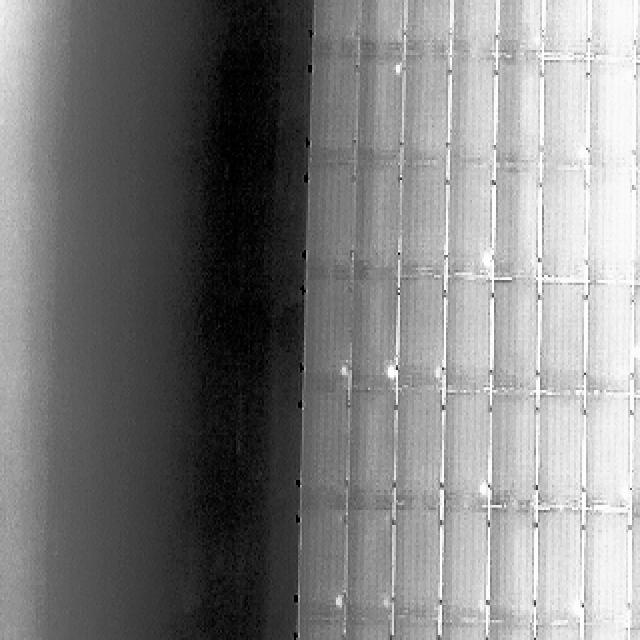Hotspots: (424, 356, 448, 388), (329, 589, 347, 615), (474, 476, 492, 501), (572, 140, 592, 161), (478, 249, 496, 271), (334, 356, 350, 379), (615, 483, 630, 504), (628, 338, 640, 362)
PV-modules: (306, 279, 360, 396), (439, 391, 491, 510), (392, 387, 443, 508), (533, 509, 584, 630), (392, 507, 446, 621), (484, 508, 535, 627), (341, 508, 393, 624), (295, 508, 347, 624), (346, 390, 396, 510), (441, 508, 491, 628), (349, 275, 399, 395), (488, 390, 538, 509), (582, 168, 634, 282), (307, 164, 358, 280), (397, 276, 447, 394), (441, 278, 491, 396), (538, 283, 589, 398), (582, 511, 633, 626), (490, 167, 541, 281), (489, 280, 540, 394), (399, 51, 450, 165), (580, 393, 630, 509), (535, 393, 585, 508), (539, 168, 589, 282), (583, 62, 634, 172), (310, 54, 361, 164), (582, 285, 632, 397), (350, 163, 400, 275), (494, 53, 543, 166), (541, 61, 590, 173), (401, 165, 450, 277), (444, 165, 492, 278), (299, 394, 348, 504), (447, 52, 494, 164), (355, 59, 403, 167), (355, 0, 406, 60), (584, 0, 634, 60), (314, 0, 366, 57), (541, 0, 590, 60), (403, 0, 452, 55), (451, 0, 499, 56), (495, 0, 542, 57), (624, 512, 640, 630), (626, 395, 640, 513), (628, 285, 640, 400), (630, 168, 640, 288), (630, 63, 640, 175), (340, 620, 390, 640), (292, 622, 344, 640), (388, 622, 440, 640), (438, 625, 490, 640), (580, 625, 632, 640), (482, 625, 534, 640), (532, 625, 582, 640), (630, 0, 640, 62), (624, 627, 640, 640)
